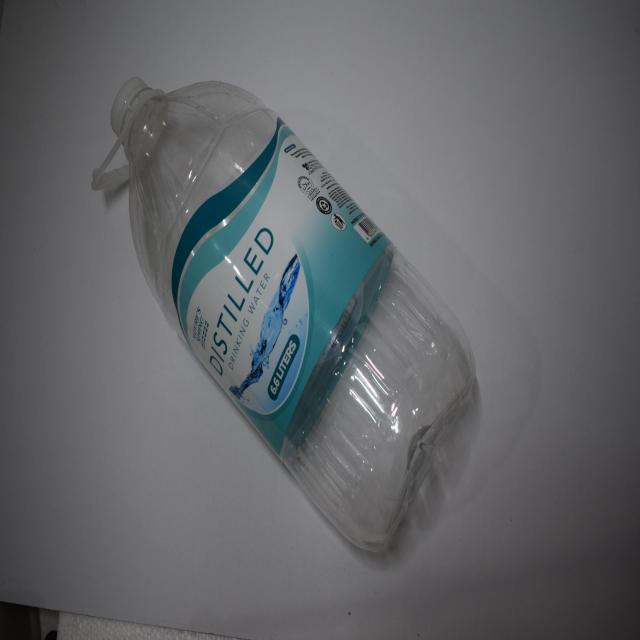plastic: (90, 64, 481, 563)
